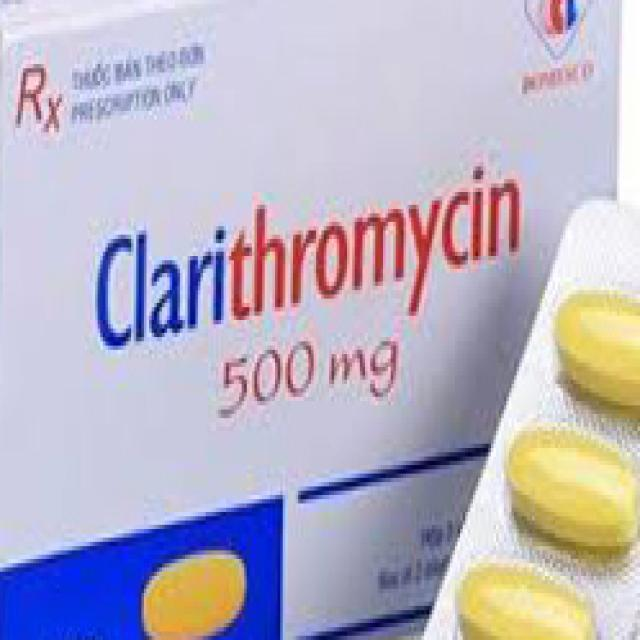drug-name: (87, 148, 526, 369)
